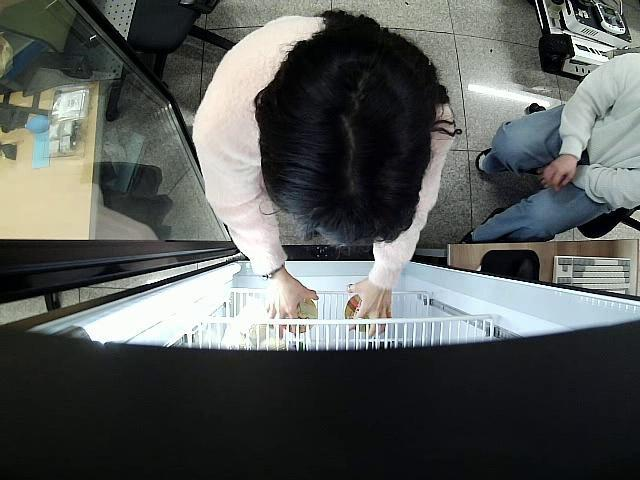04_chapagetti_S: (346, 294, 390, 336), (286, 300, 320, 334)
